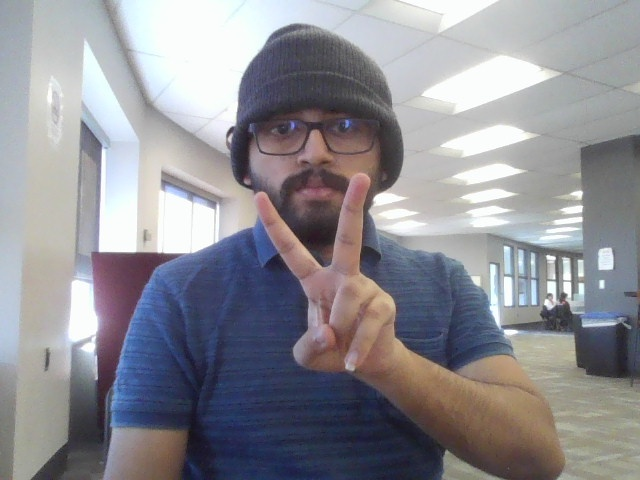start: (235, 177, 420, 391)
